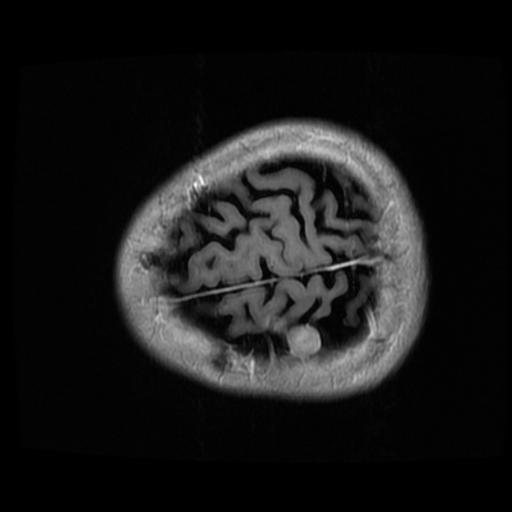meningioma: (284, 324, 320, 359)
